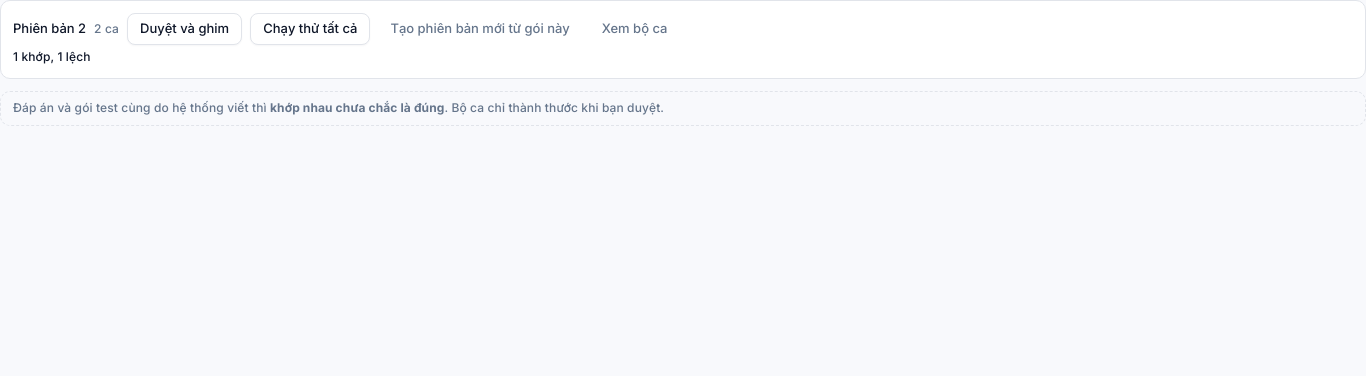
Scenario: TestBundleList — chạy thử (G2b-R) › sau khi chạy: ca khớp ghi "Khớp", ca lệch ghi "Lệch" kèm chỗ lệch, và tóm tắt đếm đúng
The image size is (1366, 376).
Expected: the text "1 khớp, 1 lệch" is shown, [13, 49, 90, 64]
Click the button "Xem bộ ca". click: (635, 29)
box: [590, 13, 680, 45]
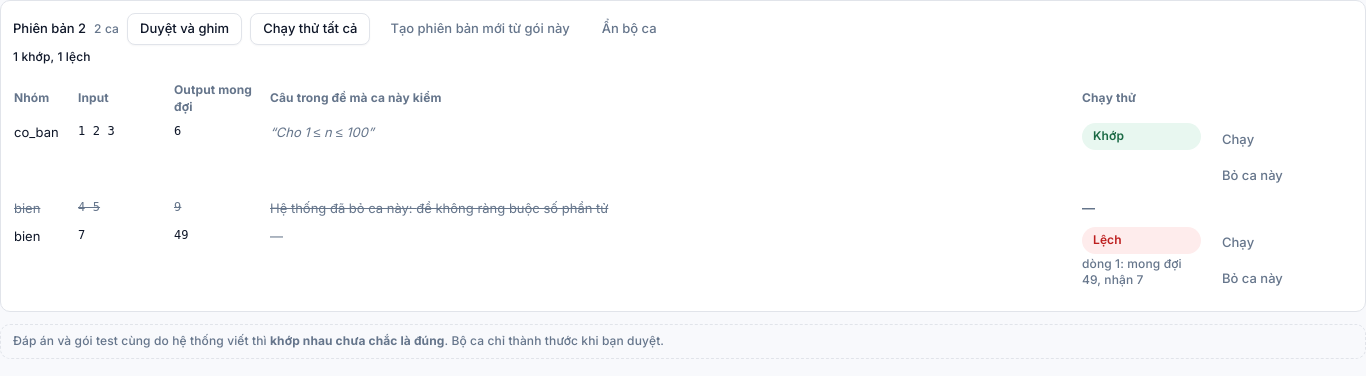
Now the text "Khớp" is shown, box [1082, 123, 1201, 150]
Now the text "Lệch" is shown, box [1082, 227, 1201, 254]
Now the text "dòng 1: mong đợi 49, nhận 7" is shown, box [1082, 256, 1182, 288]
